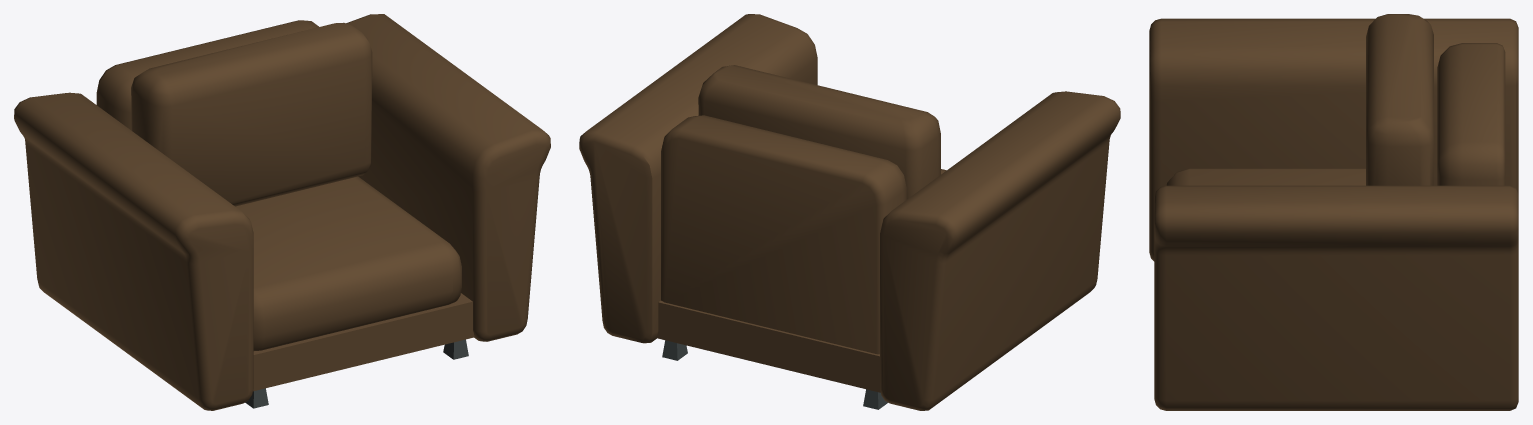
The model's file is Seat.fbx.
3 views of the same model, side by side, from view 1: azimuth 30°, elevation 25°; view 2: azimuth 150°, elevation 25°; view 3: azimuth 270°, elevation 25° (orthographic). The views are drawn at different scales.
Visible parts, largest first — view 1: Seat; view 2: Seat; view 3: Seat.
Part boxes in pixels (x1,y1,x2,y2): Seat: (14, 14, 550, 410); Seat: (579, 14, 1120, 410); Seat: (1149, 14, 1518, 410).
Bounding box in the file's own units: 1.67 × 1.07 × 1.31.
